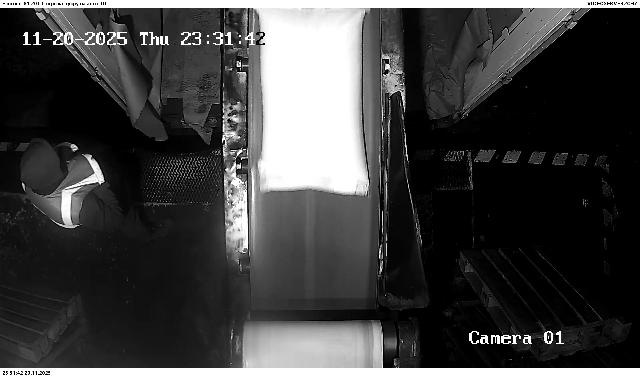bag: (258, 9, 372, 195)
